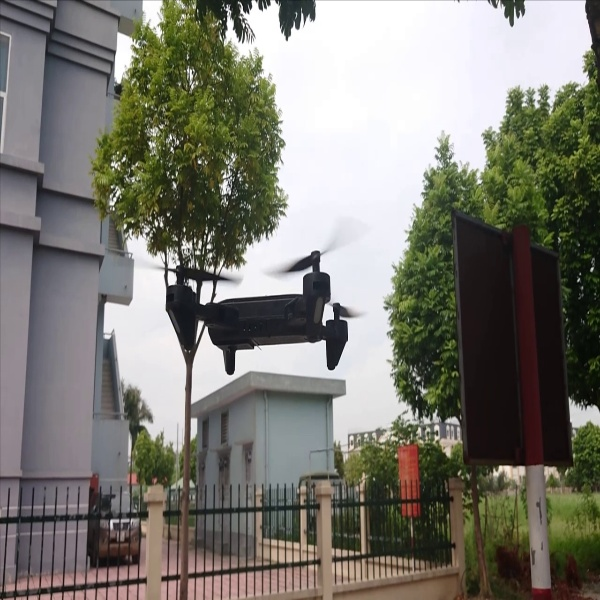drone: (151, 242, 371, 378)
